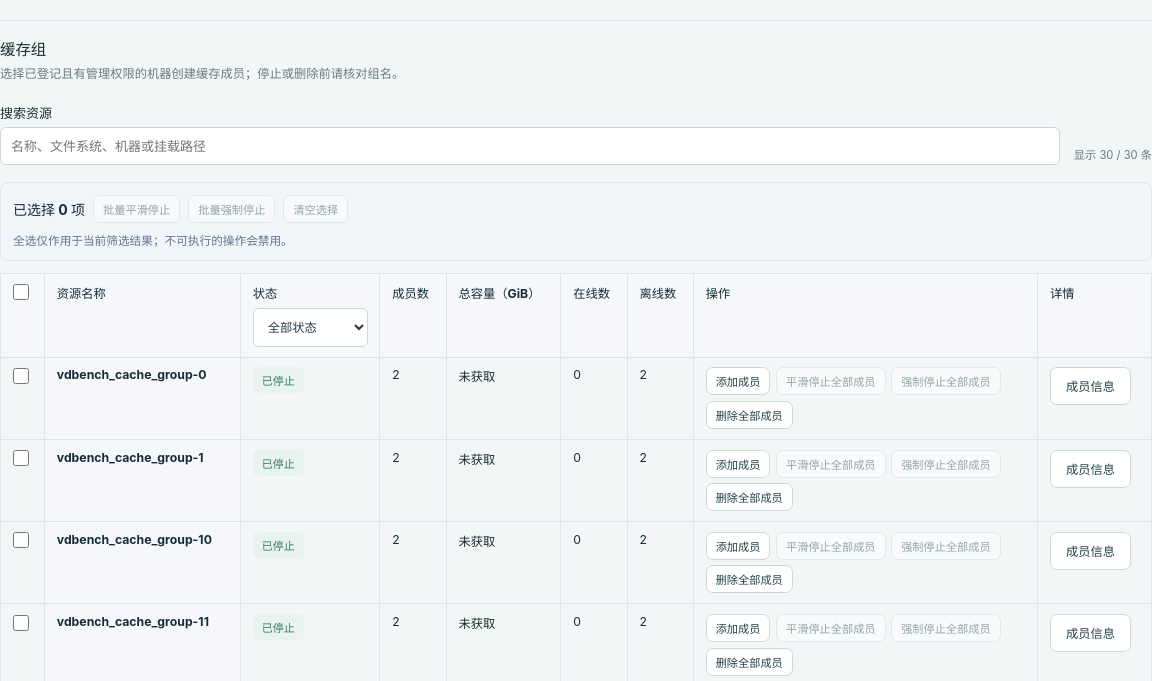
Test: add member reveals and focuses the creation form with the selected group
Click the 1st button "添加成员". click: (738, 381)
box: [706, 367, 770, 395]
(page scrolled)
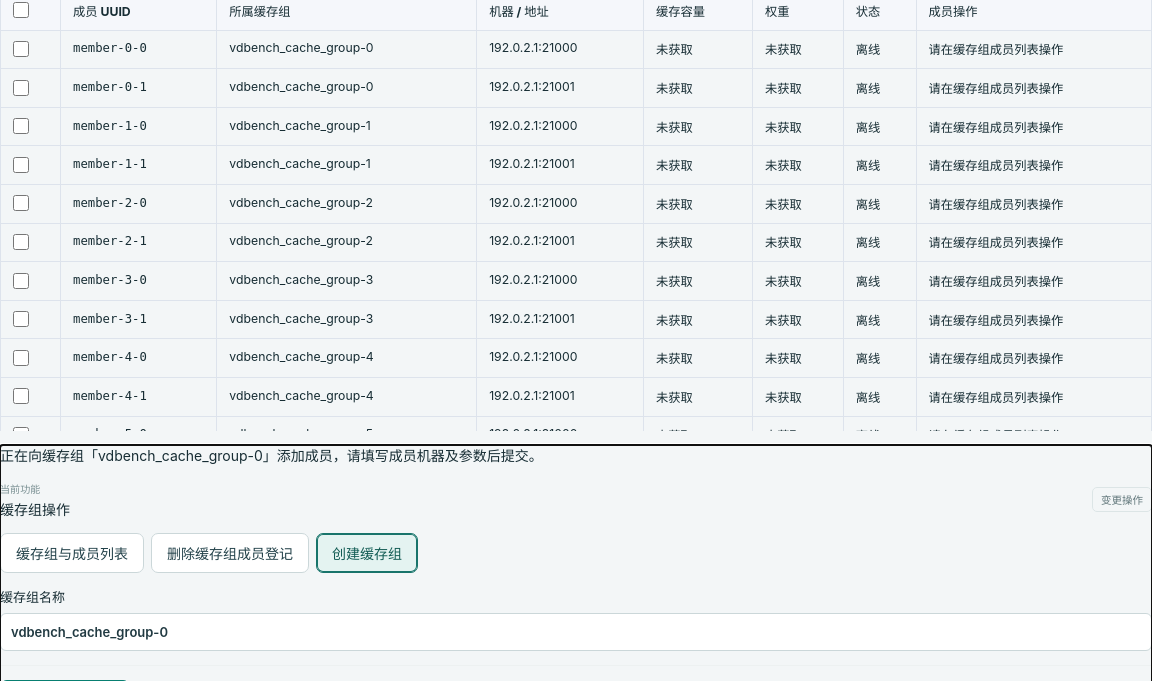
Result: the field labelled "缓存组名称" holds "vdbench_cache_group-0" at [0, 614, 1151, 652]
Result: the text "正在向缓存组「vdbench_cache_group-0」添加成员，请填写成员机器及参数后提交。" is shown at [0, 447, 543, 464]
